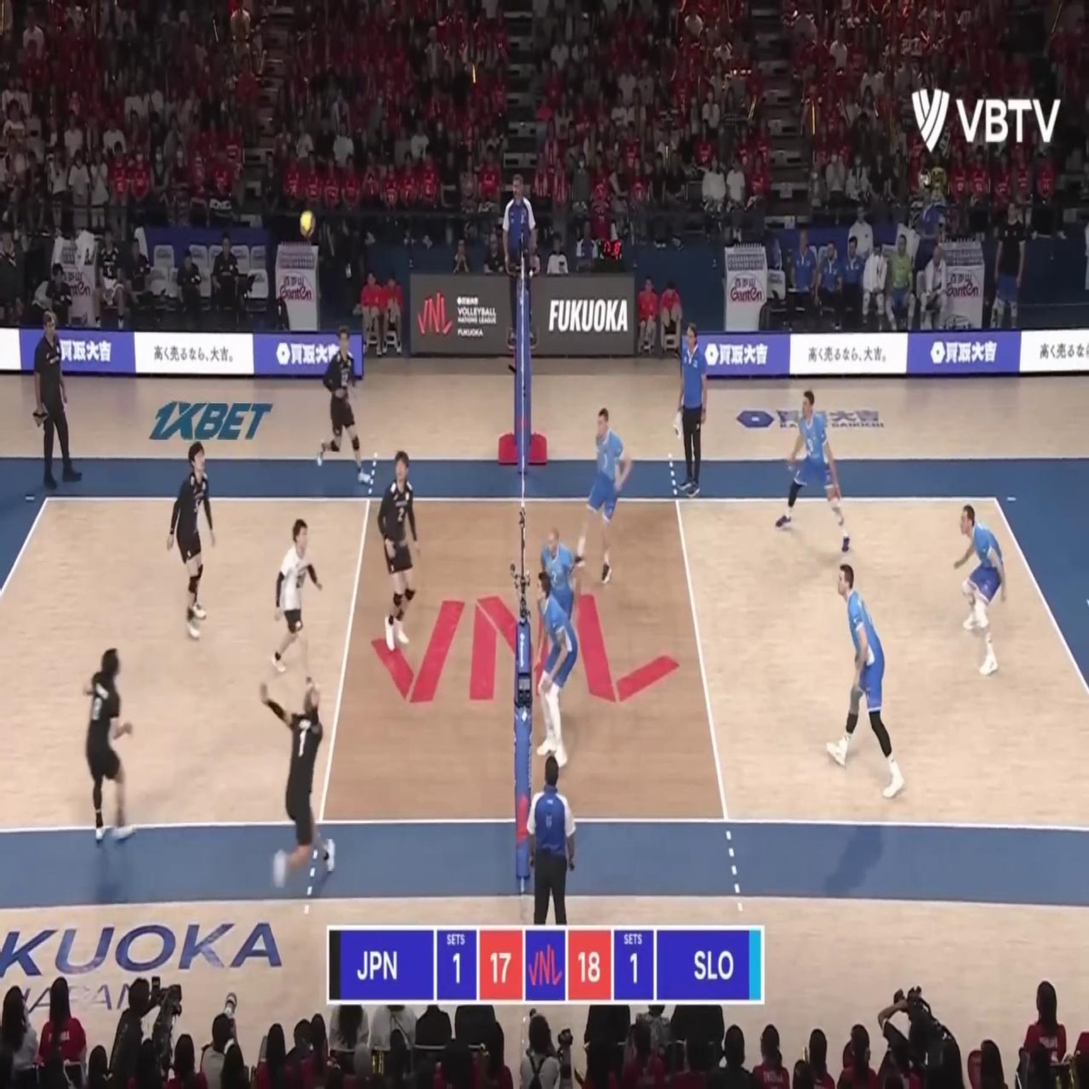ball: (300, 212, 315, 237)
